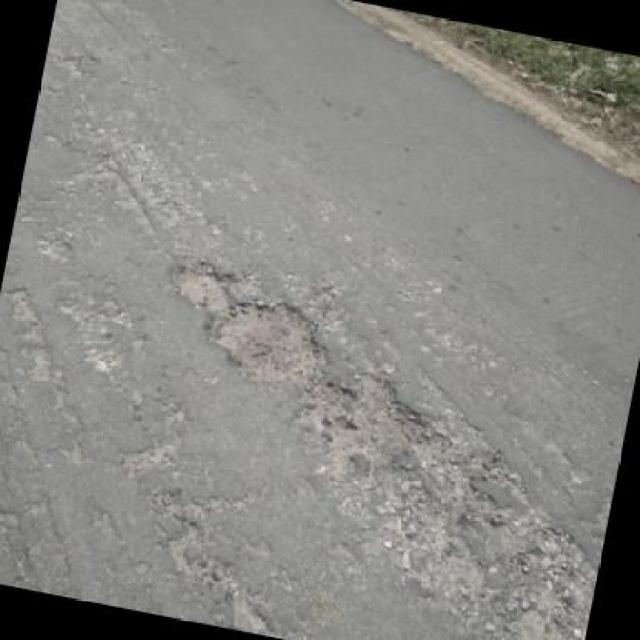pothole1: (288, 355, 450, 490), (197, 287, 343, 396), (162, 254, 242, 315)
